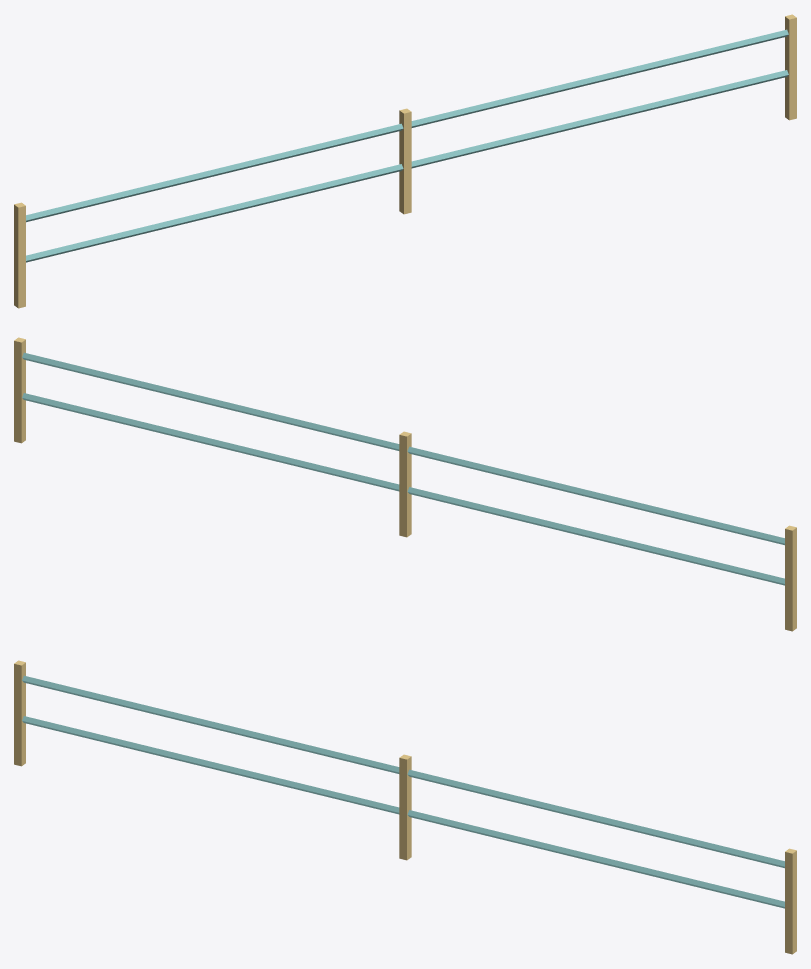
The picture shows the model from 3 angles, top to bottom: view 1: azimuth 30°, elevation 25°; view 2: azimuth 150°, elevation 25°; view 3: azimuth 330°, elevation 25°; orthographic projection.
Size of the model in its own units: 8.08 by 1 by 0.08.
